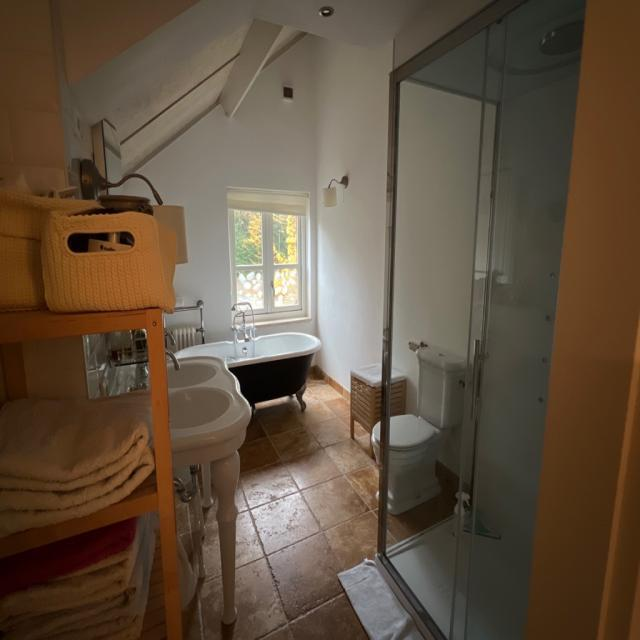bath: (170, 312, 321, 385)
douche: (375, 0, 586, 640)
toilet: (371, 340, 471, 516)
wastafel: (114, 328, 252, 502)
